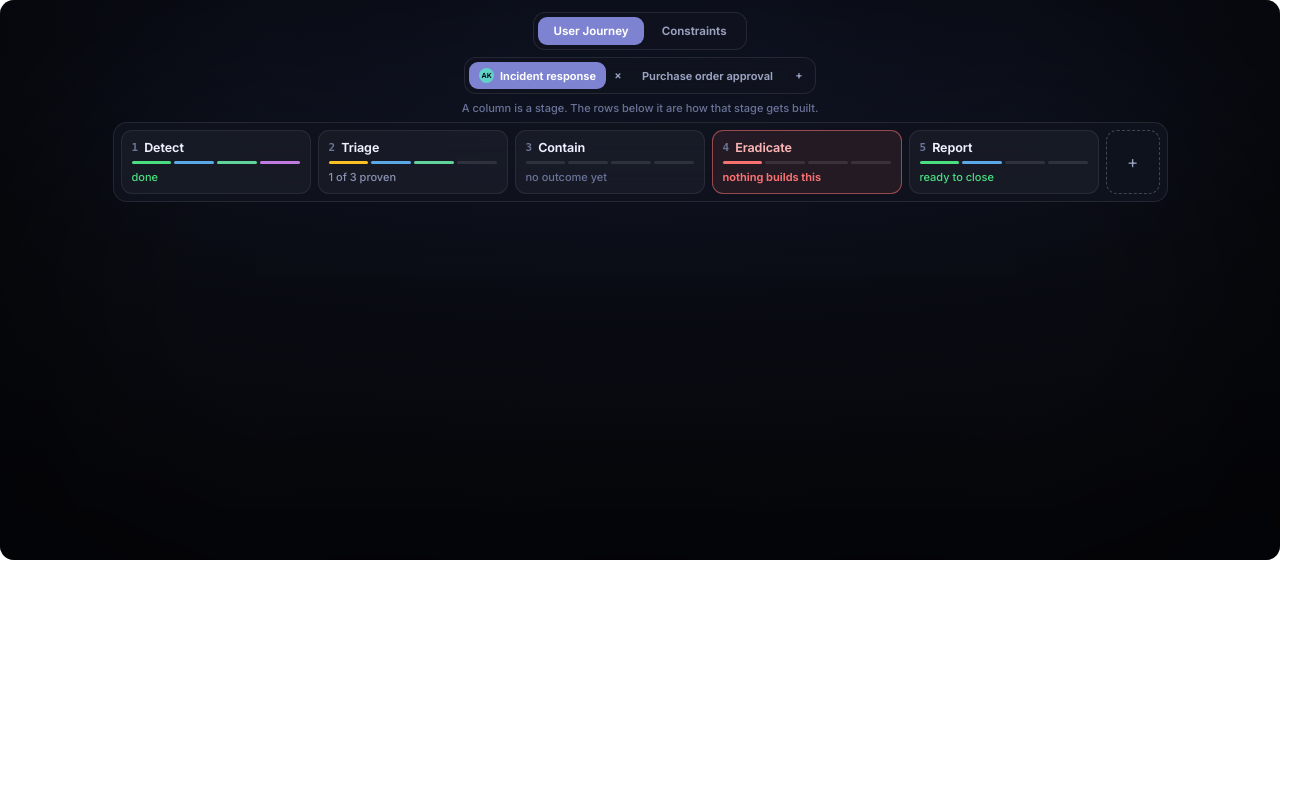
Test: W · Team › the owner's initials on the journey and the stage pane; proposals are decided under Agents, not from the space
Expected: the text "AK" is shown, [479, 68, 494, 83]
Click the button with test id "space-stage" showing "1 Detect done". click: {"x": 216, "y": 162}
box: [120, 130, 310, 194]
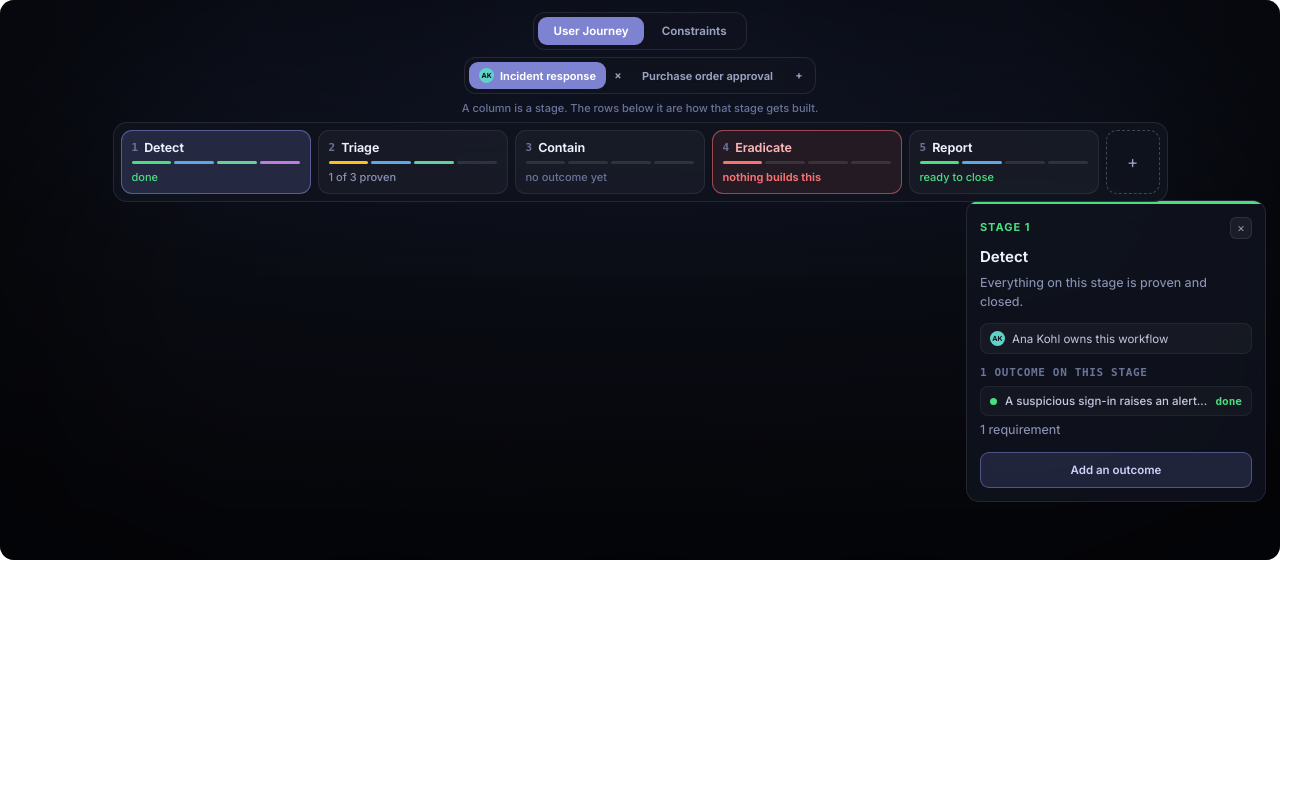
Expected: the element with test id "space-inspector" shows "Ana Kohl owns this workflow", [966, 200, 1266, 502]
